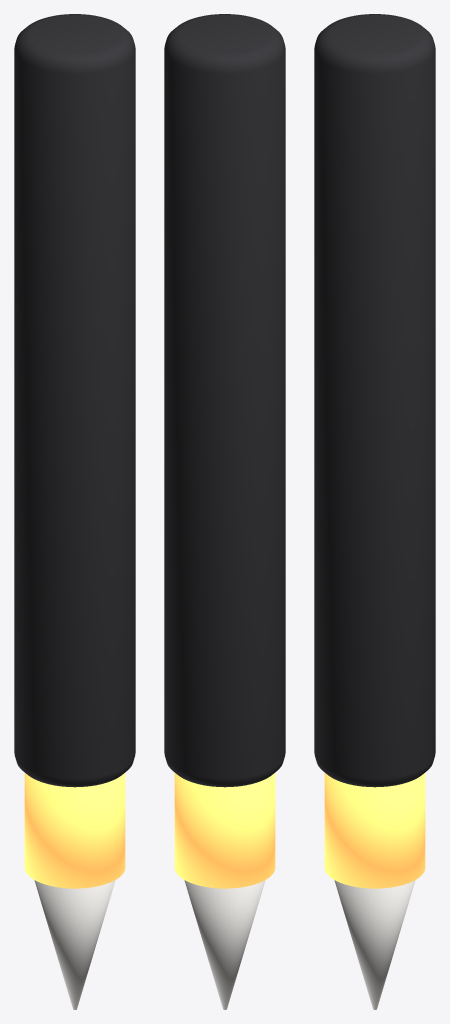
3 views of the same model, side by side, from view 1: azimuth 90°, elevation 25°; view 2: azimuth 150°, elevation 25°; view 3: azimuth 270°, elevation 25° (orthographic).
Visible parts, largest first — view 1: pen_body, pen_ring, pen_tip; view 2: pen_body, pen_ring, pen_tip; view 3: pen_body, pen_ring, pen_tip.
Part boxes in pixels (x1,y1,x2,y2): pen_body: (14, 14, 135, 787); pen_ring: (24, 773, 125, 888); pen_tip: (34, 880, 115, 1009); pen_body: (164, 14, 285, 787); pen_ring: (174, 773, 275, 888); pen_tip: (184, 880, 265, 1009); pen_body: (314, 14, 435, 787); pen_ring: (324, 773, 425, 888); pen_tip: (334, 880, 415, 1009).
Bounding box in the file's own units: 0.24 × 2.13 × 0.24.
